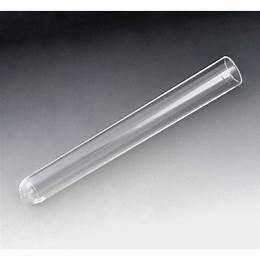Test tube: (26, 31, 241, 219)
